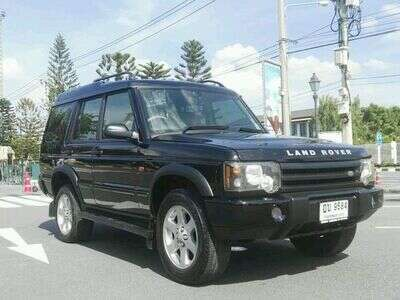pickup: (38, 75, 384, 285)
